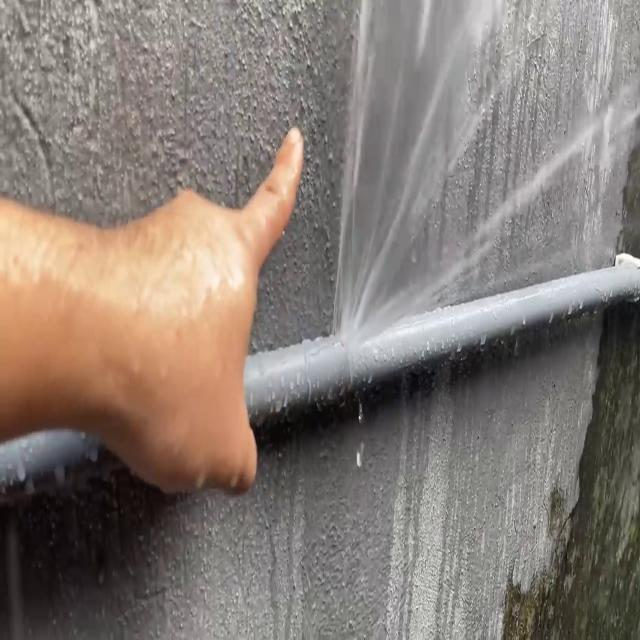leak: (324, 0, 640, 339)
